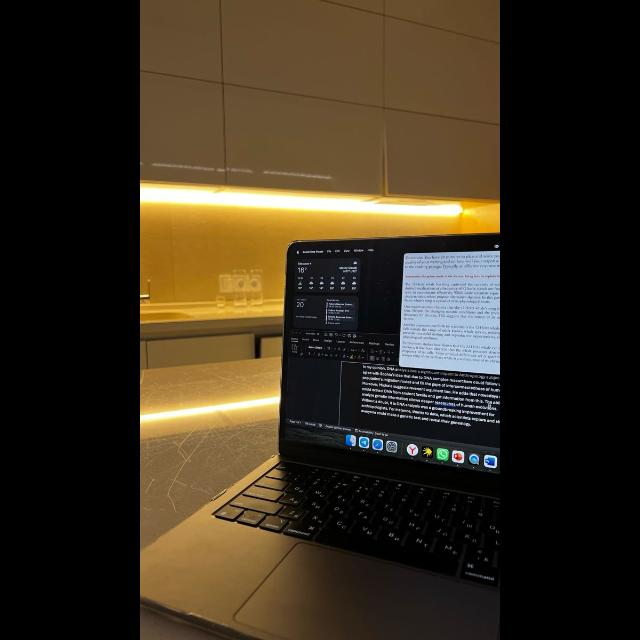laptop: (166, 232, 500, 640)
